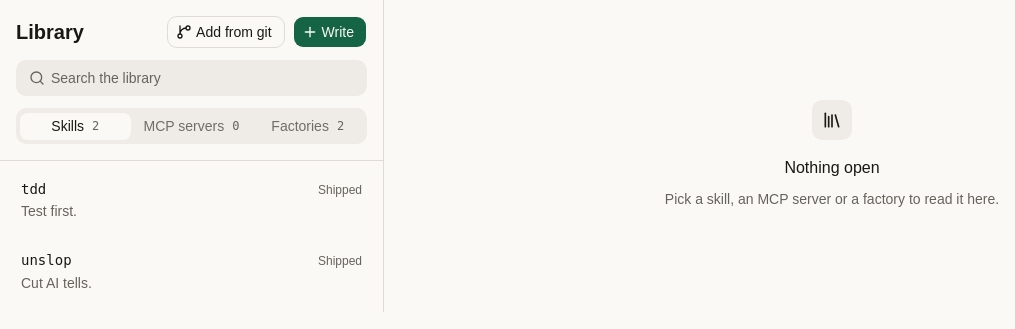
it: LibraryPage › searches the names and descriptions
This screenshot has width=1015, height=329.
Expected: the list named "Skills" is shown, [8,169,375,304]
In the search field labelled "Search the library": (206, 78) [45,60,366,96], type "ai tells"
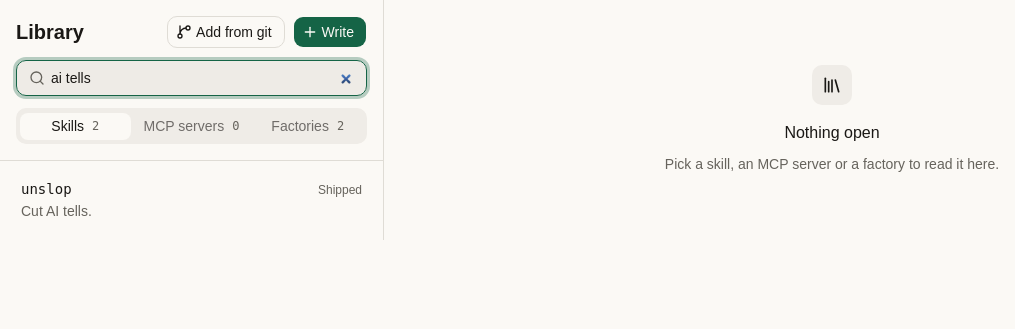
In the search field named "Search the library": (206, 78) [45,60,366,96], type " and more"
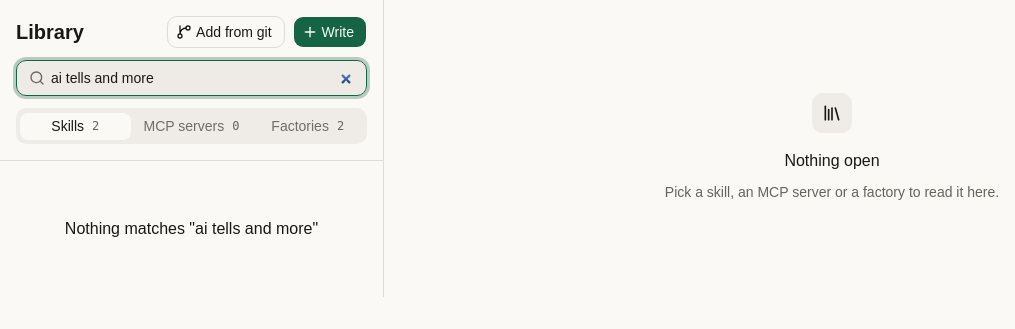
Now the text "Nothing matches \"ai tells and more\"" is shown, box [65,217,318,241]
